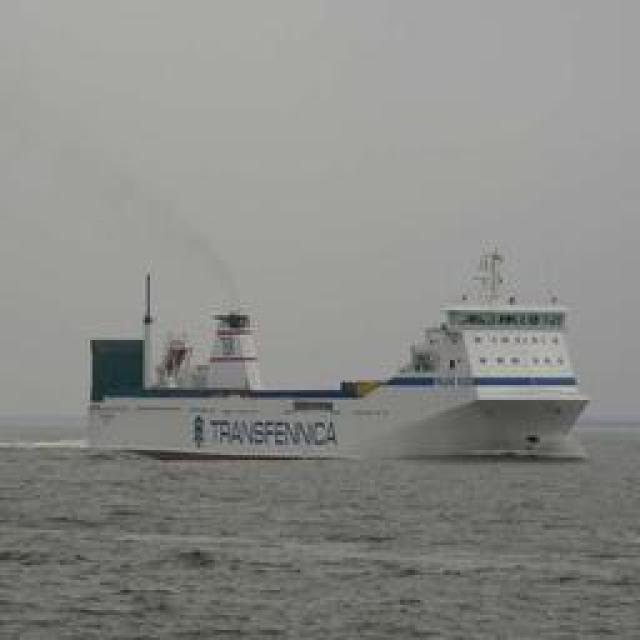Ship: (347, 255, 595, 465)
